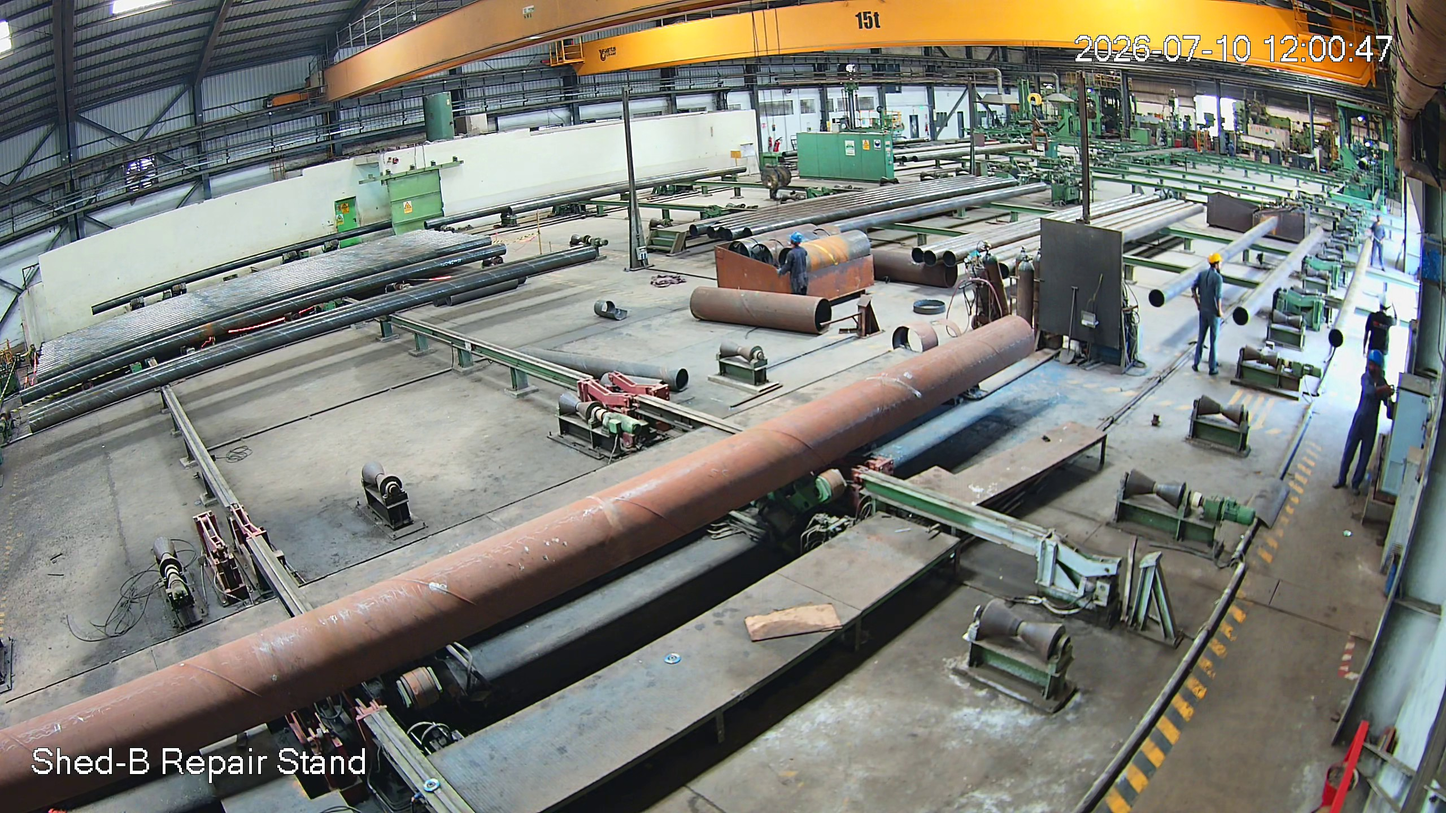Helmet: (1365, 346, 1391, 377), (1204, 251, 1230, 281), (786, 229, 806, 248)
Person: (1331, 352, 1396, 501), (1189, 252, 1230, 382), (1363, 298, 1403, 379), (782, 232, 810, 297)
